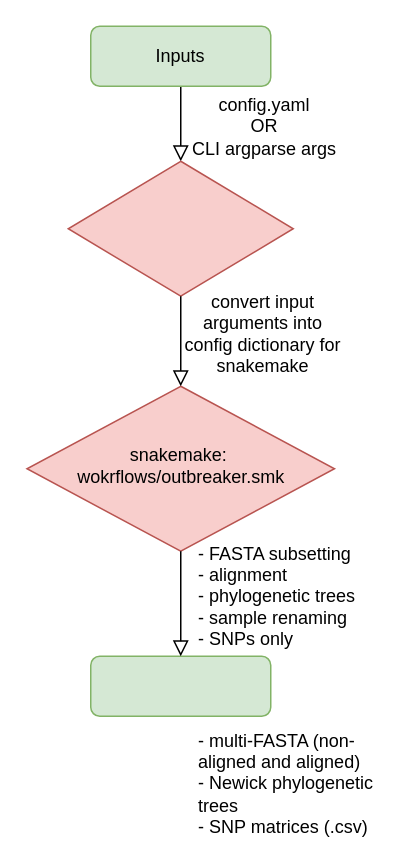
This 416x863 diagram has some shape labels left out. The shapes that lost their labels are listed below. From the top down, each one's centre as x and y in pixels, then its label:
At pixel 180 228: "Python: outbreaker:main.py".
At pixel 180 685: "Outputs".
